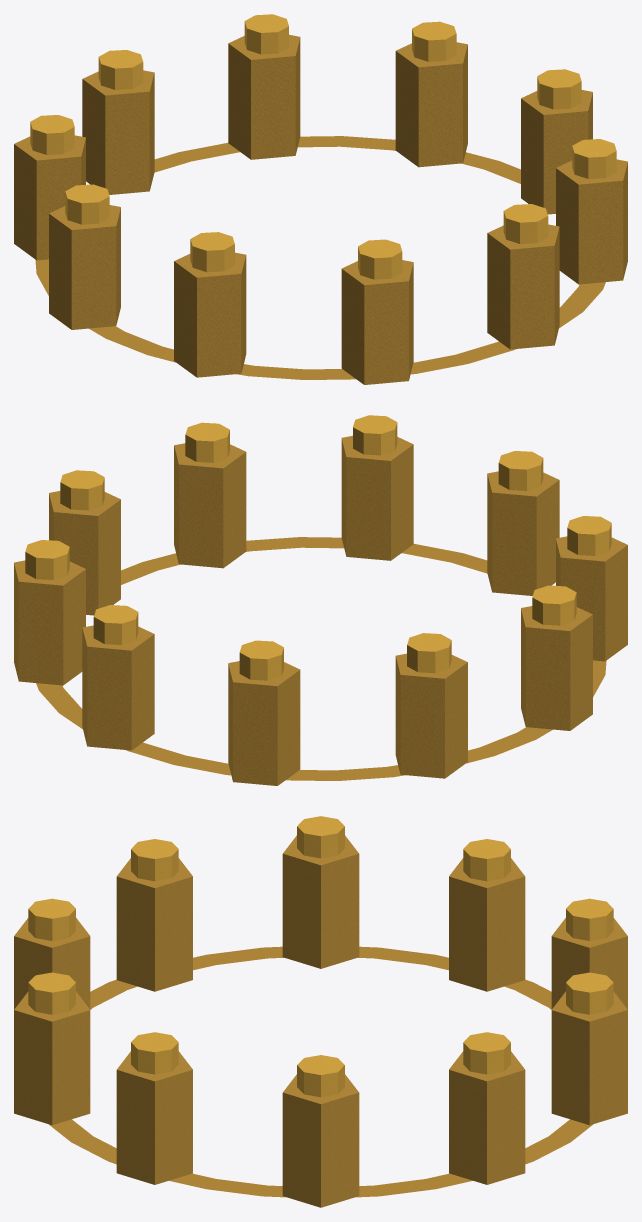
The model's file is reference_crown.gltf.
The picture shows the model from 3 angles, top to bottom: view 1: azimuth 30°, elevation 25°; view 2: azimuth 150°, elevation 25°; view 3: azimuth 270°, elevation 25°; orthographic projection. The views are drawn at different scales.
Visible parts, largest first — view 1: Crown; view 2: Crown; view 3: Crown.
Part boxes in pixels (x1,y1,x2,y2): Crown: (14, 14, 627, 384); Crown: (14, 415, 627, 785); Crown: (14, 816, 627, 1207).
Size of the model in its own units: 0.5079 by 0.117 by 0.4888.
Materials: 2 (2 with a texture image).
